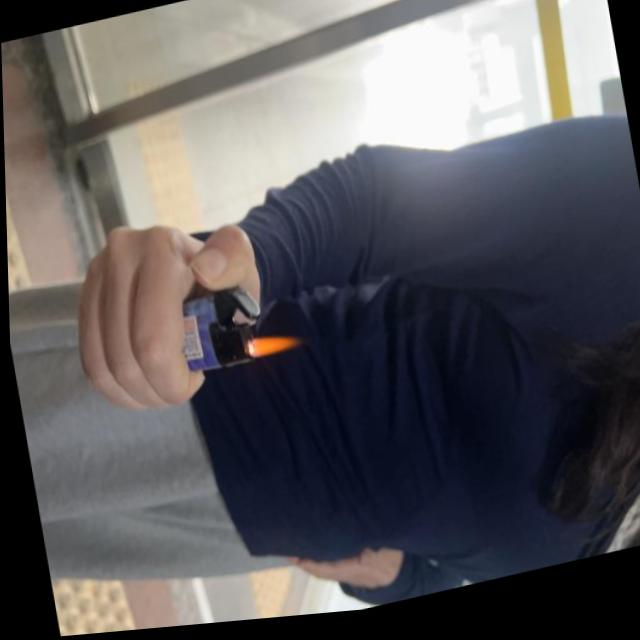Fire: (248, 333, 298, 363)
